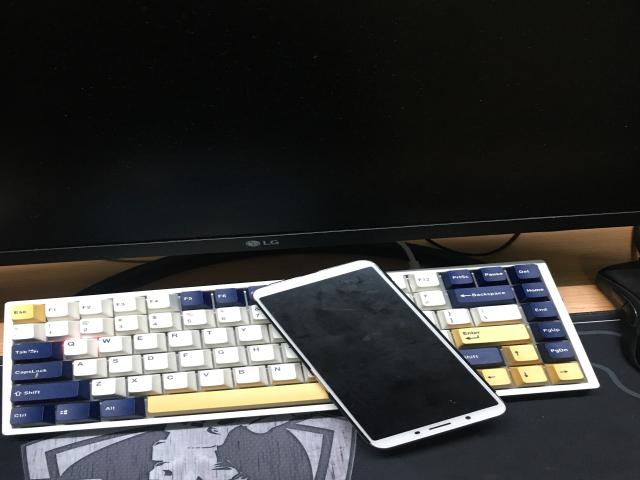Mobile phone: (253, 261, 505, 448)
Mouse: (595, 261, 640, 368)
